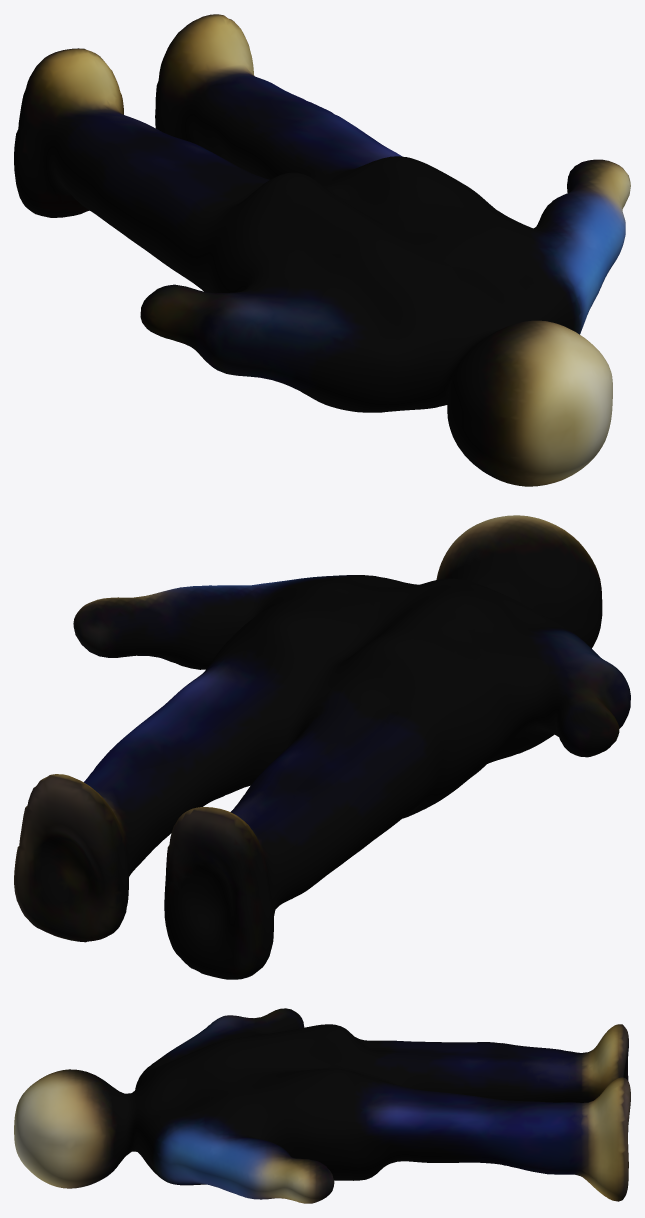
The model's file is grandfather.glb.
The picture shows the model from 3 angles, top to bottom: view 1: azimuth 30°, elevation 25°; view 2: azimuth 150°, elevation 25°; view 3: azimuth 270°, elevation 25°; orthographic projection. The views are drawn at different scales.
Bounding box in the file's own units: 0.6783 × 0.2388 × 0.9998.
